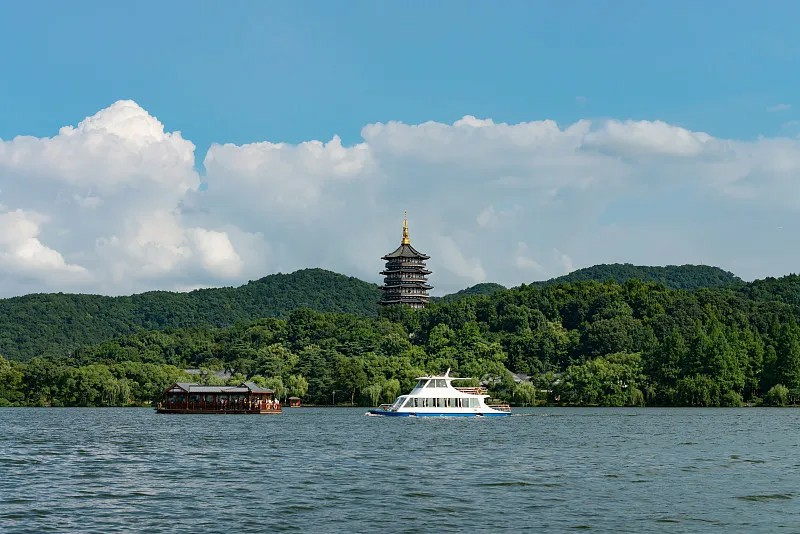Leifeng: (375, 209, 433, 317)
